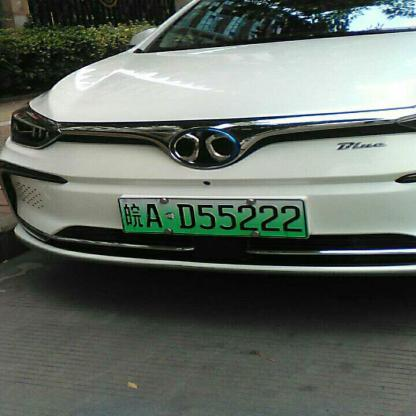lp: (119, 197, 308, 236)
